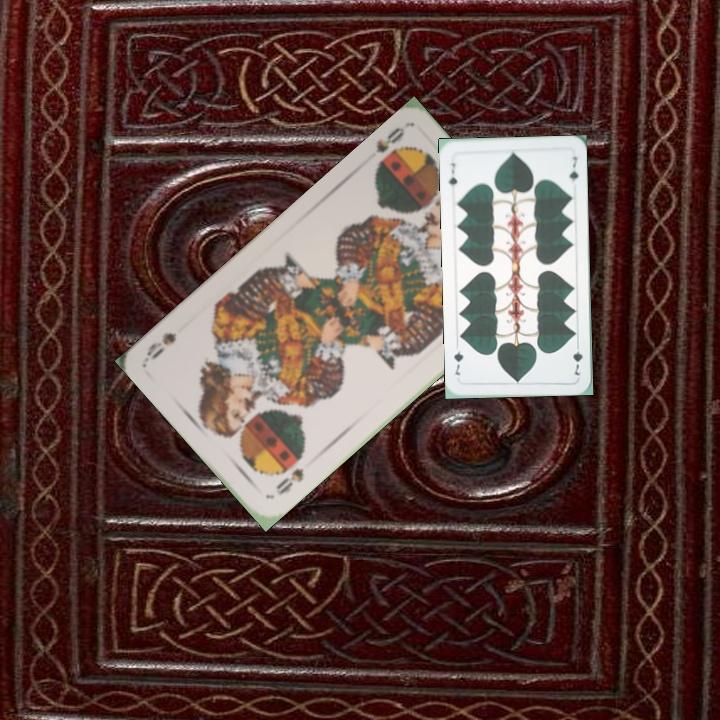G7: (569, 338, 585, 378), (445, 158, 460, 188)
SO: (371, 122, 408, 156), (272, 464, 307, 498)
